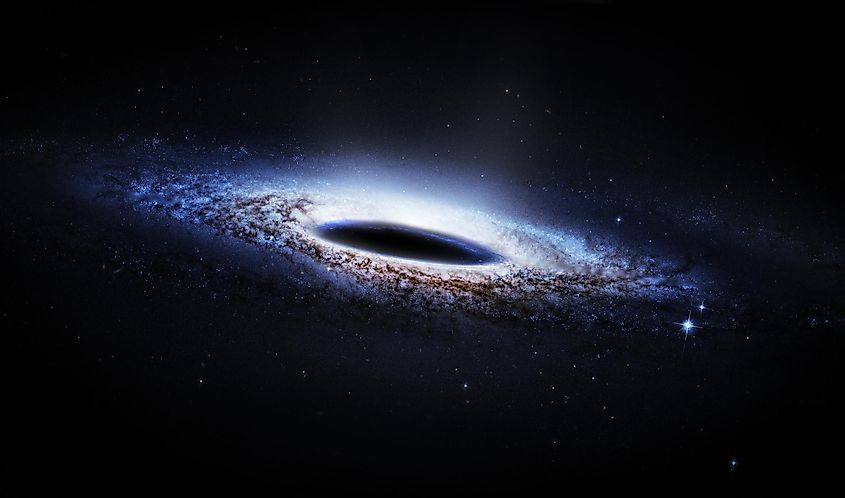black hole: (72, 140, 755, 332)
